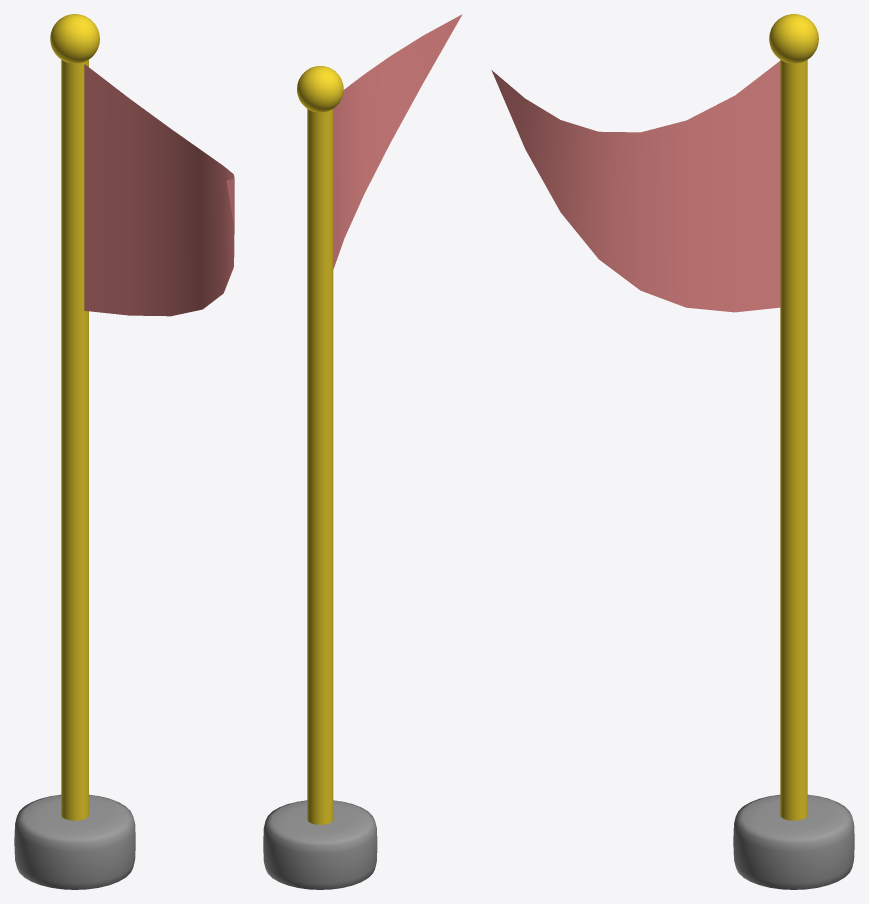
File: prop_goal.FBX
3 renders of one model, left to right at view 1: azimuth 30°, elevation 25°; view 2: azimuth 150°, elevation 25°; view 3: azimuth 270°, elevation 25°, orthographic. The views are drawn at different scales.
Visible parts, largest first — view 1: flag_column; view 2: flag_column; view 3: flag_column.
Part boxes in pixels (x1=…): flag_column: x1=14, y1=14, x2=234, y2=889; flag_column: x1=263, y1=14, x2=462, y2=889; flag_column: x1=491, y1=14, x2=854, y2=889.
Size of the model in its own units: 23.36 by 180 by 69.58.
